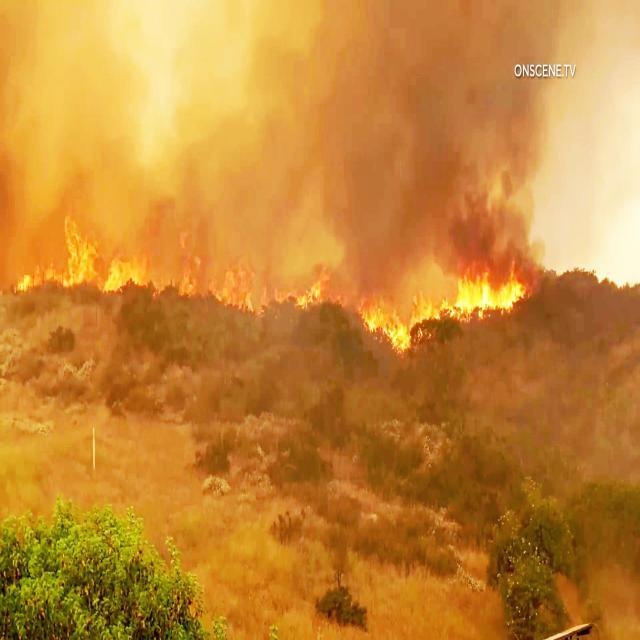Fire: (5, 212, 545, 355)
Smoke: (0, 0, 567, 230)
